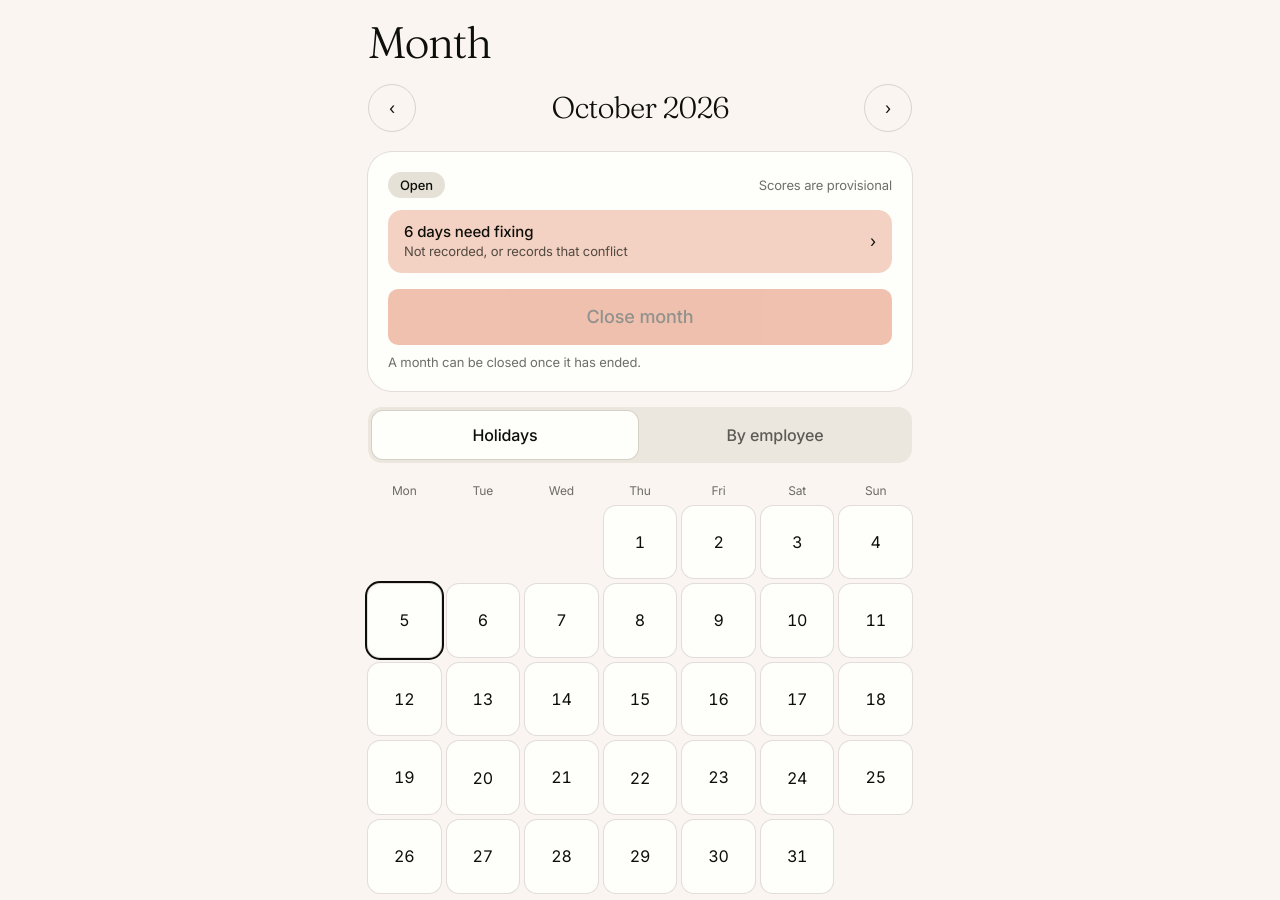
Scenario: Month: holidays › shows the database's message (for example a closed month)
The width and height of the screenshot is (1280, 900).
What coordinates should you click on to do the following:
click the button "20"
I would click on:
 (483, 778)
Its box is [447,741,519,814].
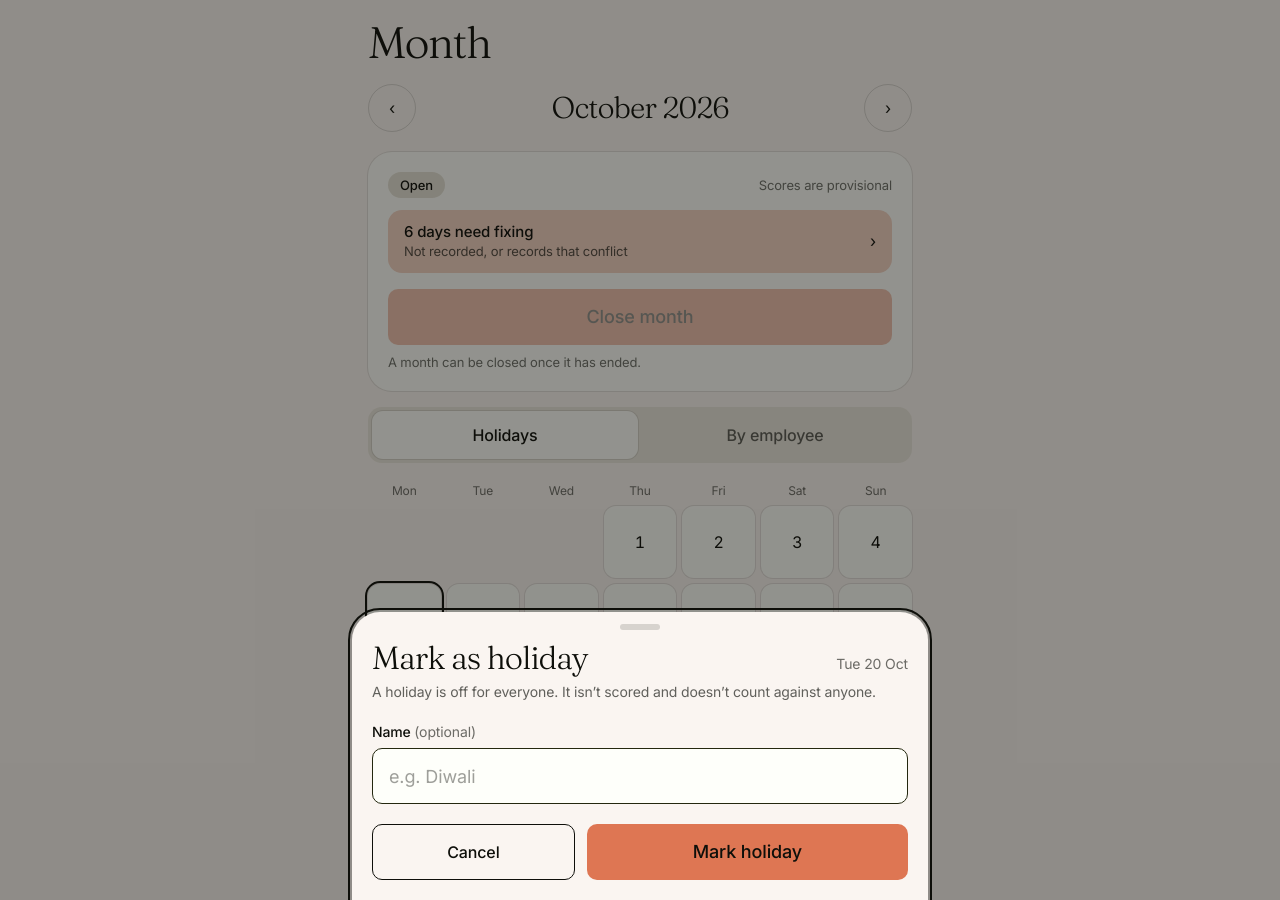
What coordinates should you click on to do the following:
click the button "Mark holiday"
I would click on:
 (747, 852)
Its box is [587,824,908,880].
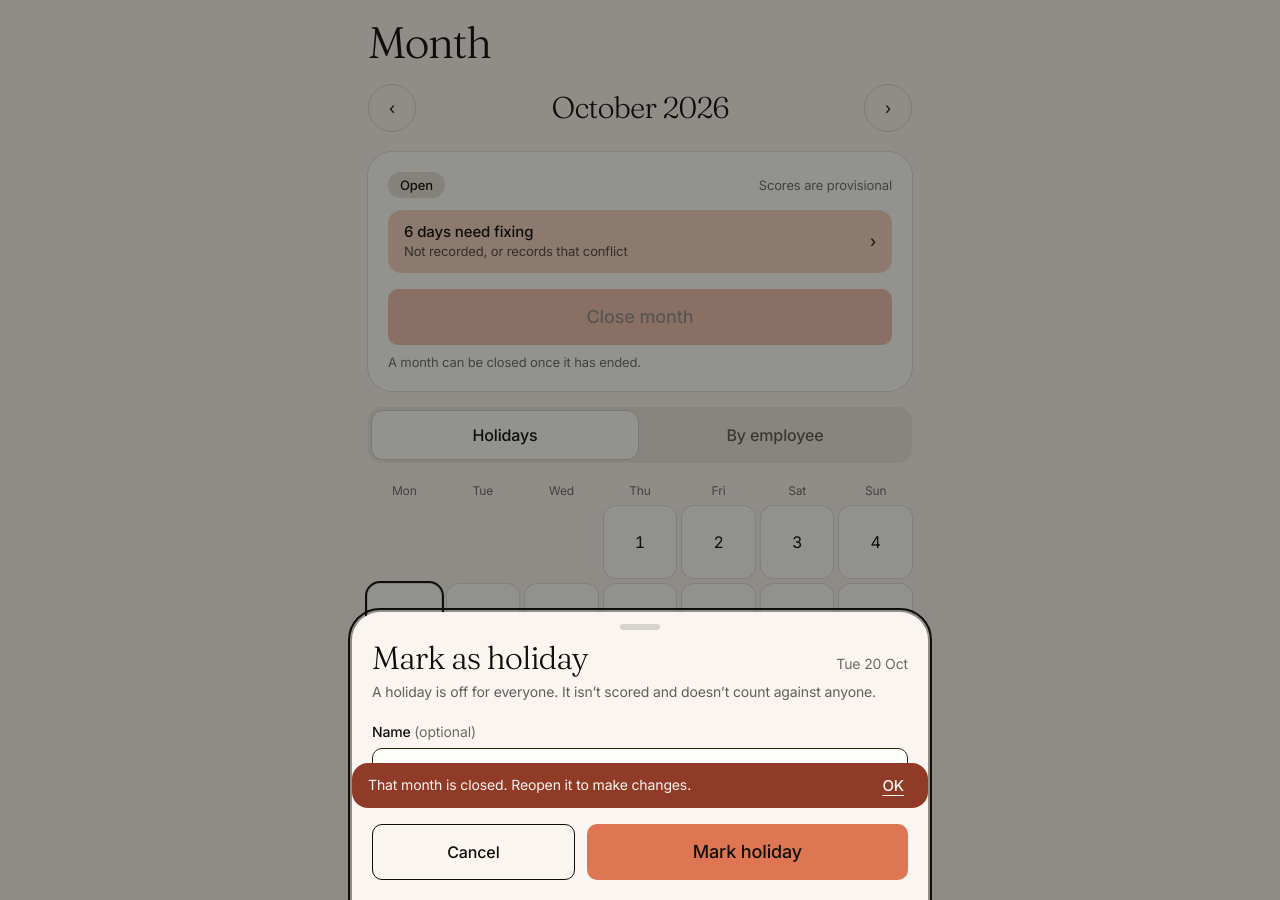
Expected: the text "That month is closed. Reopen it to make changes." is shown, [368,776,691,793]
